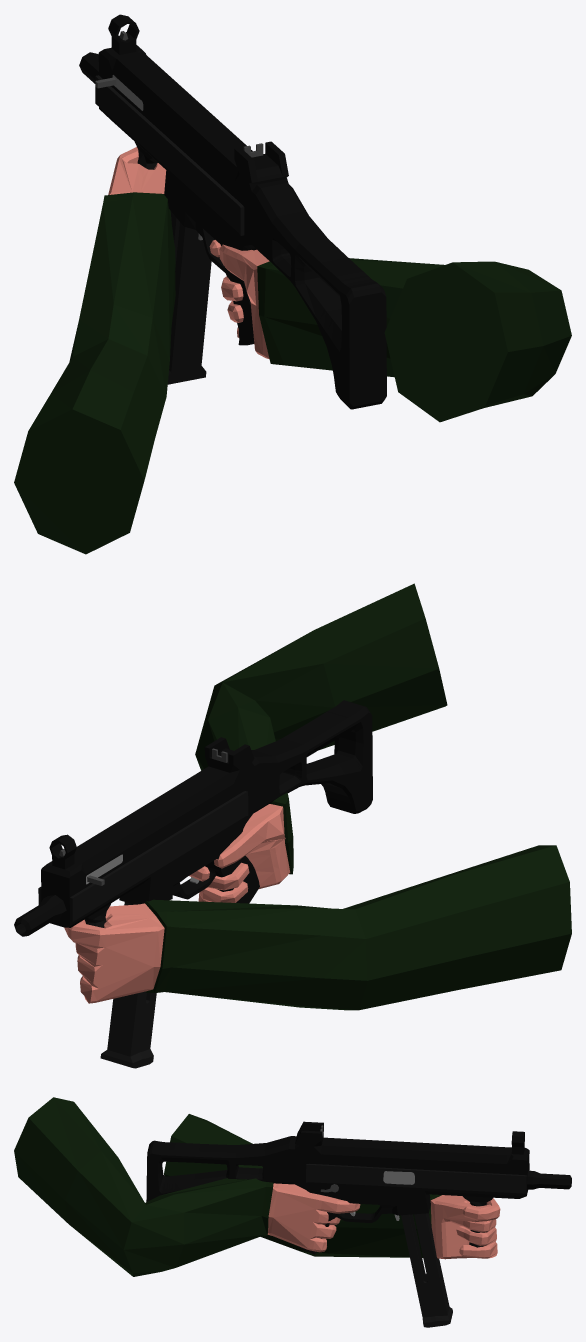
The model's file is vm_ump45.glb.
3 renders of one model, top to bottom at view 1: azimuth 30°, elevation 25°; view 2: azimuth 150°, elevation 25°; view 3: azimuth 270°, elevation 25°, orthographic. The views are drawn at different scales.
Parts seen in each view (by area): view 1: arms, gun; view 2: arms, gun; view 3: arms, gun.
Boxes of the visible parts, x1,y1,x2,y2 form: arms: (14, 147, 571, 554); gun: (79, 14, 386, 409); arms: (64, 583, 571, 1010); gun: (14, 700, 372, 1068); arms: (14, 1097, 500, 1276); gun: (146, 1121, 571, 1327).
Size of the model in its own units: 1.25 by 0.8417 by 1.97.
